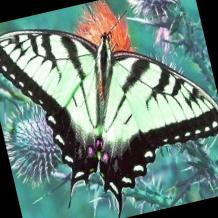butterfly: (0, 29, 218, 216)
